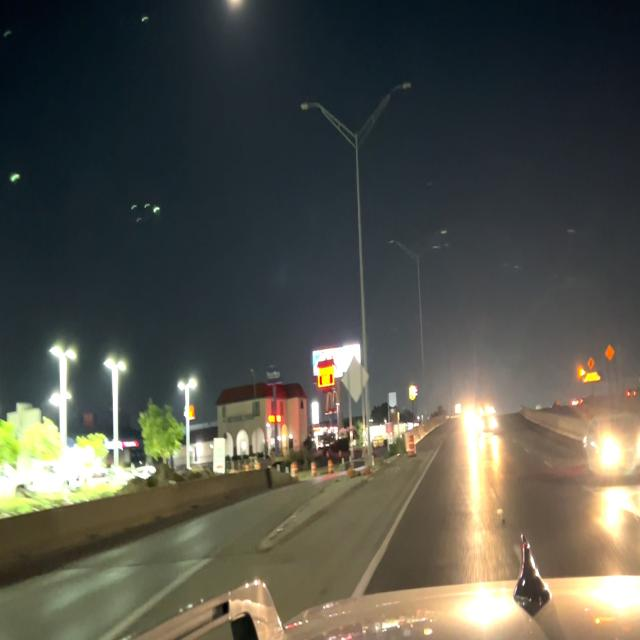back-of-sign: (341, 354, 370, 403)
